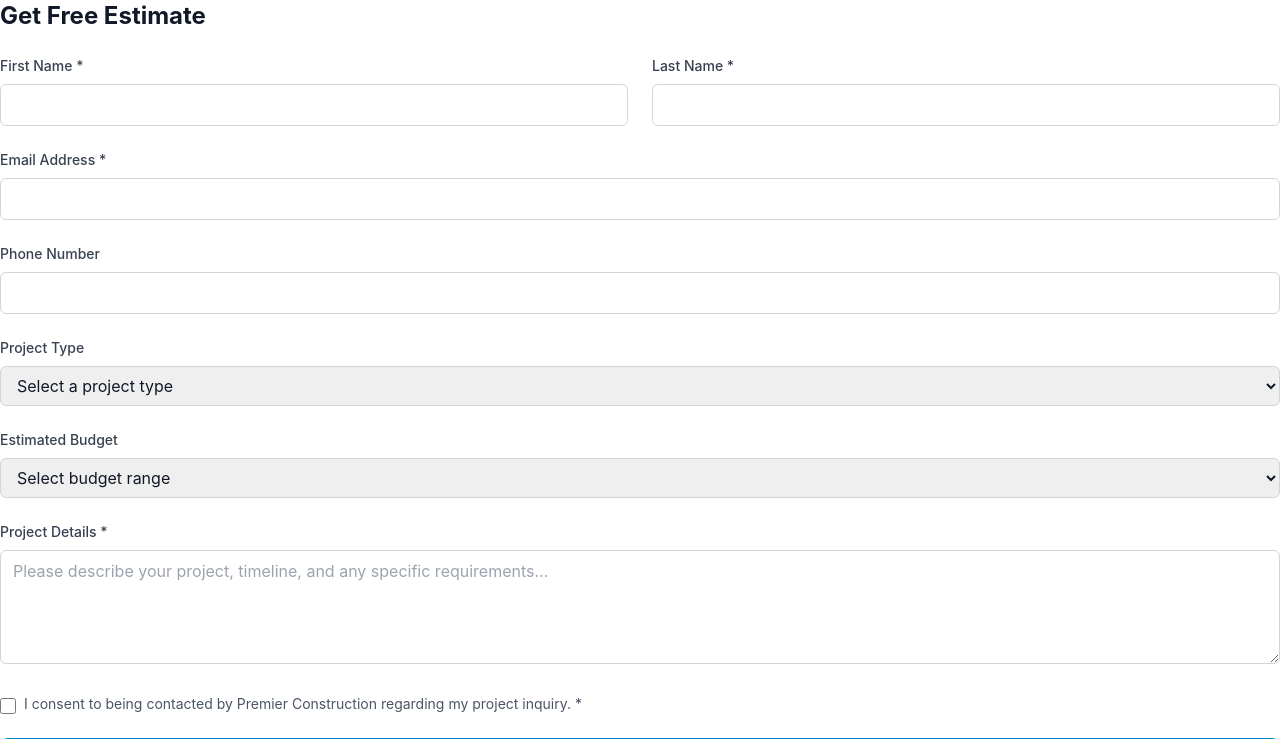
Scenario: ContactForm Integration › should validate email format
This screenshot has width=1280, height=739.
// Enter invalid email
Type "invalid-email" into the field labelled "Email Address *".
click(640, 199); type("invalid-email")  # box [0, 178, 1279, 220]
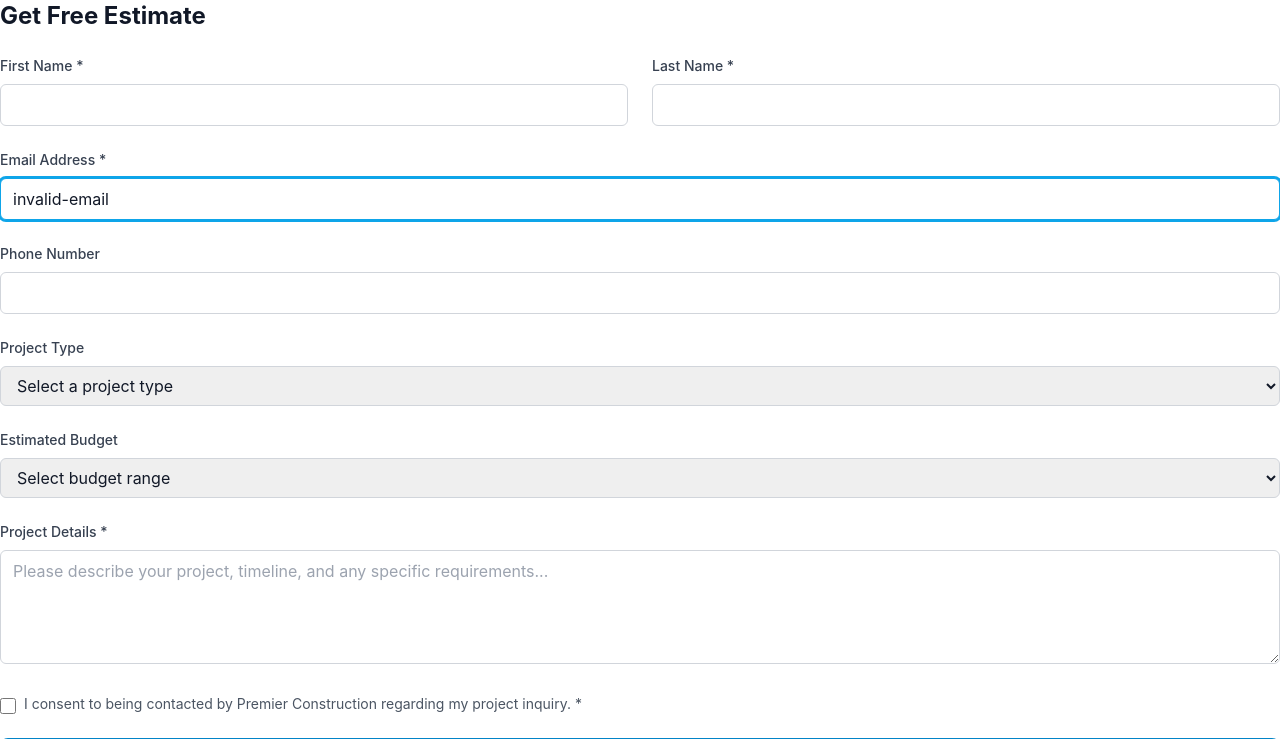
Press Tab
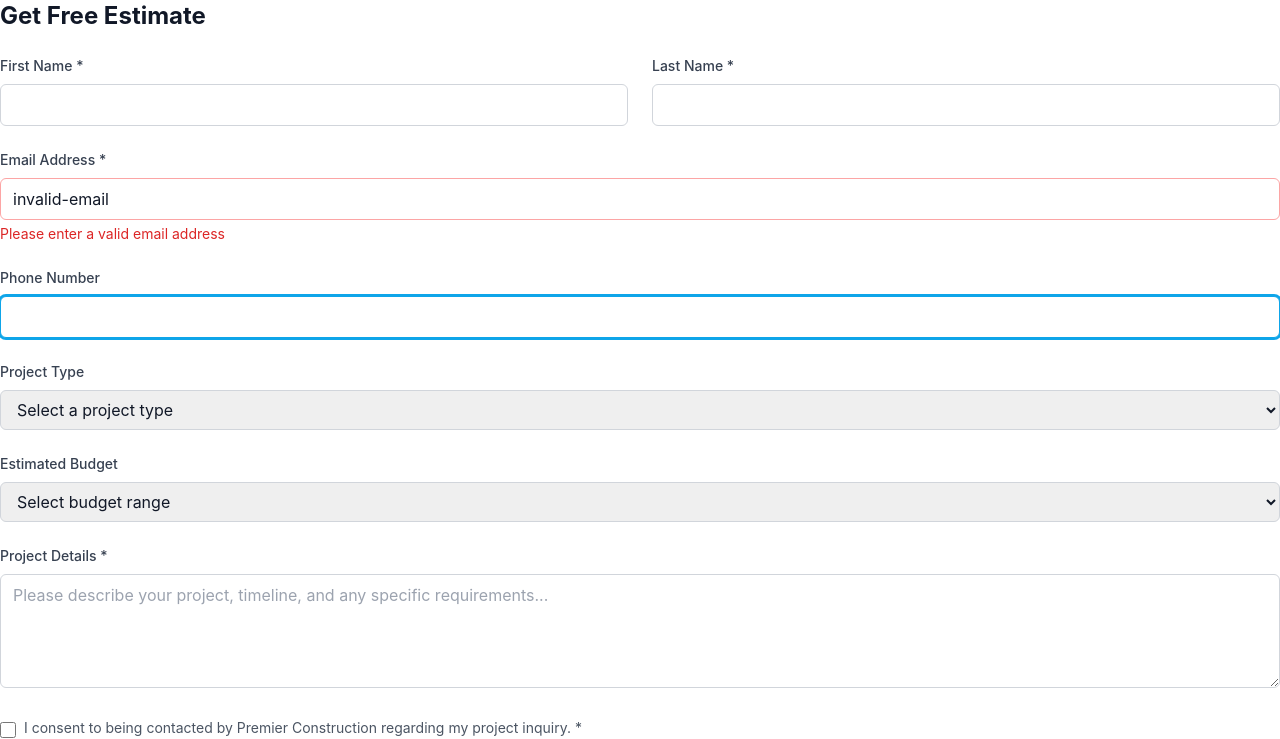
Check: the text "Please enter a valid email address" is shown, box [0, 225, 225, 242]
